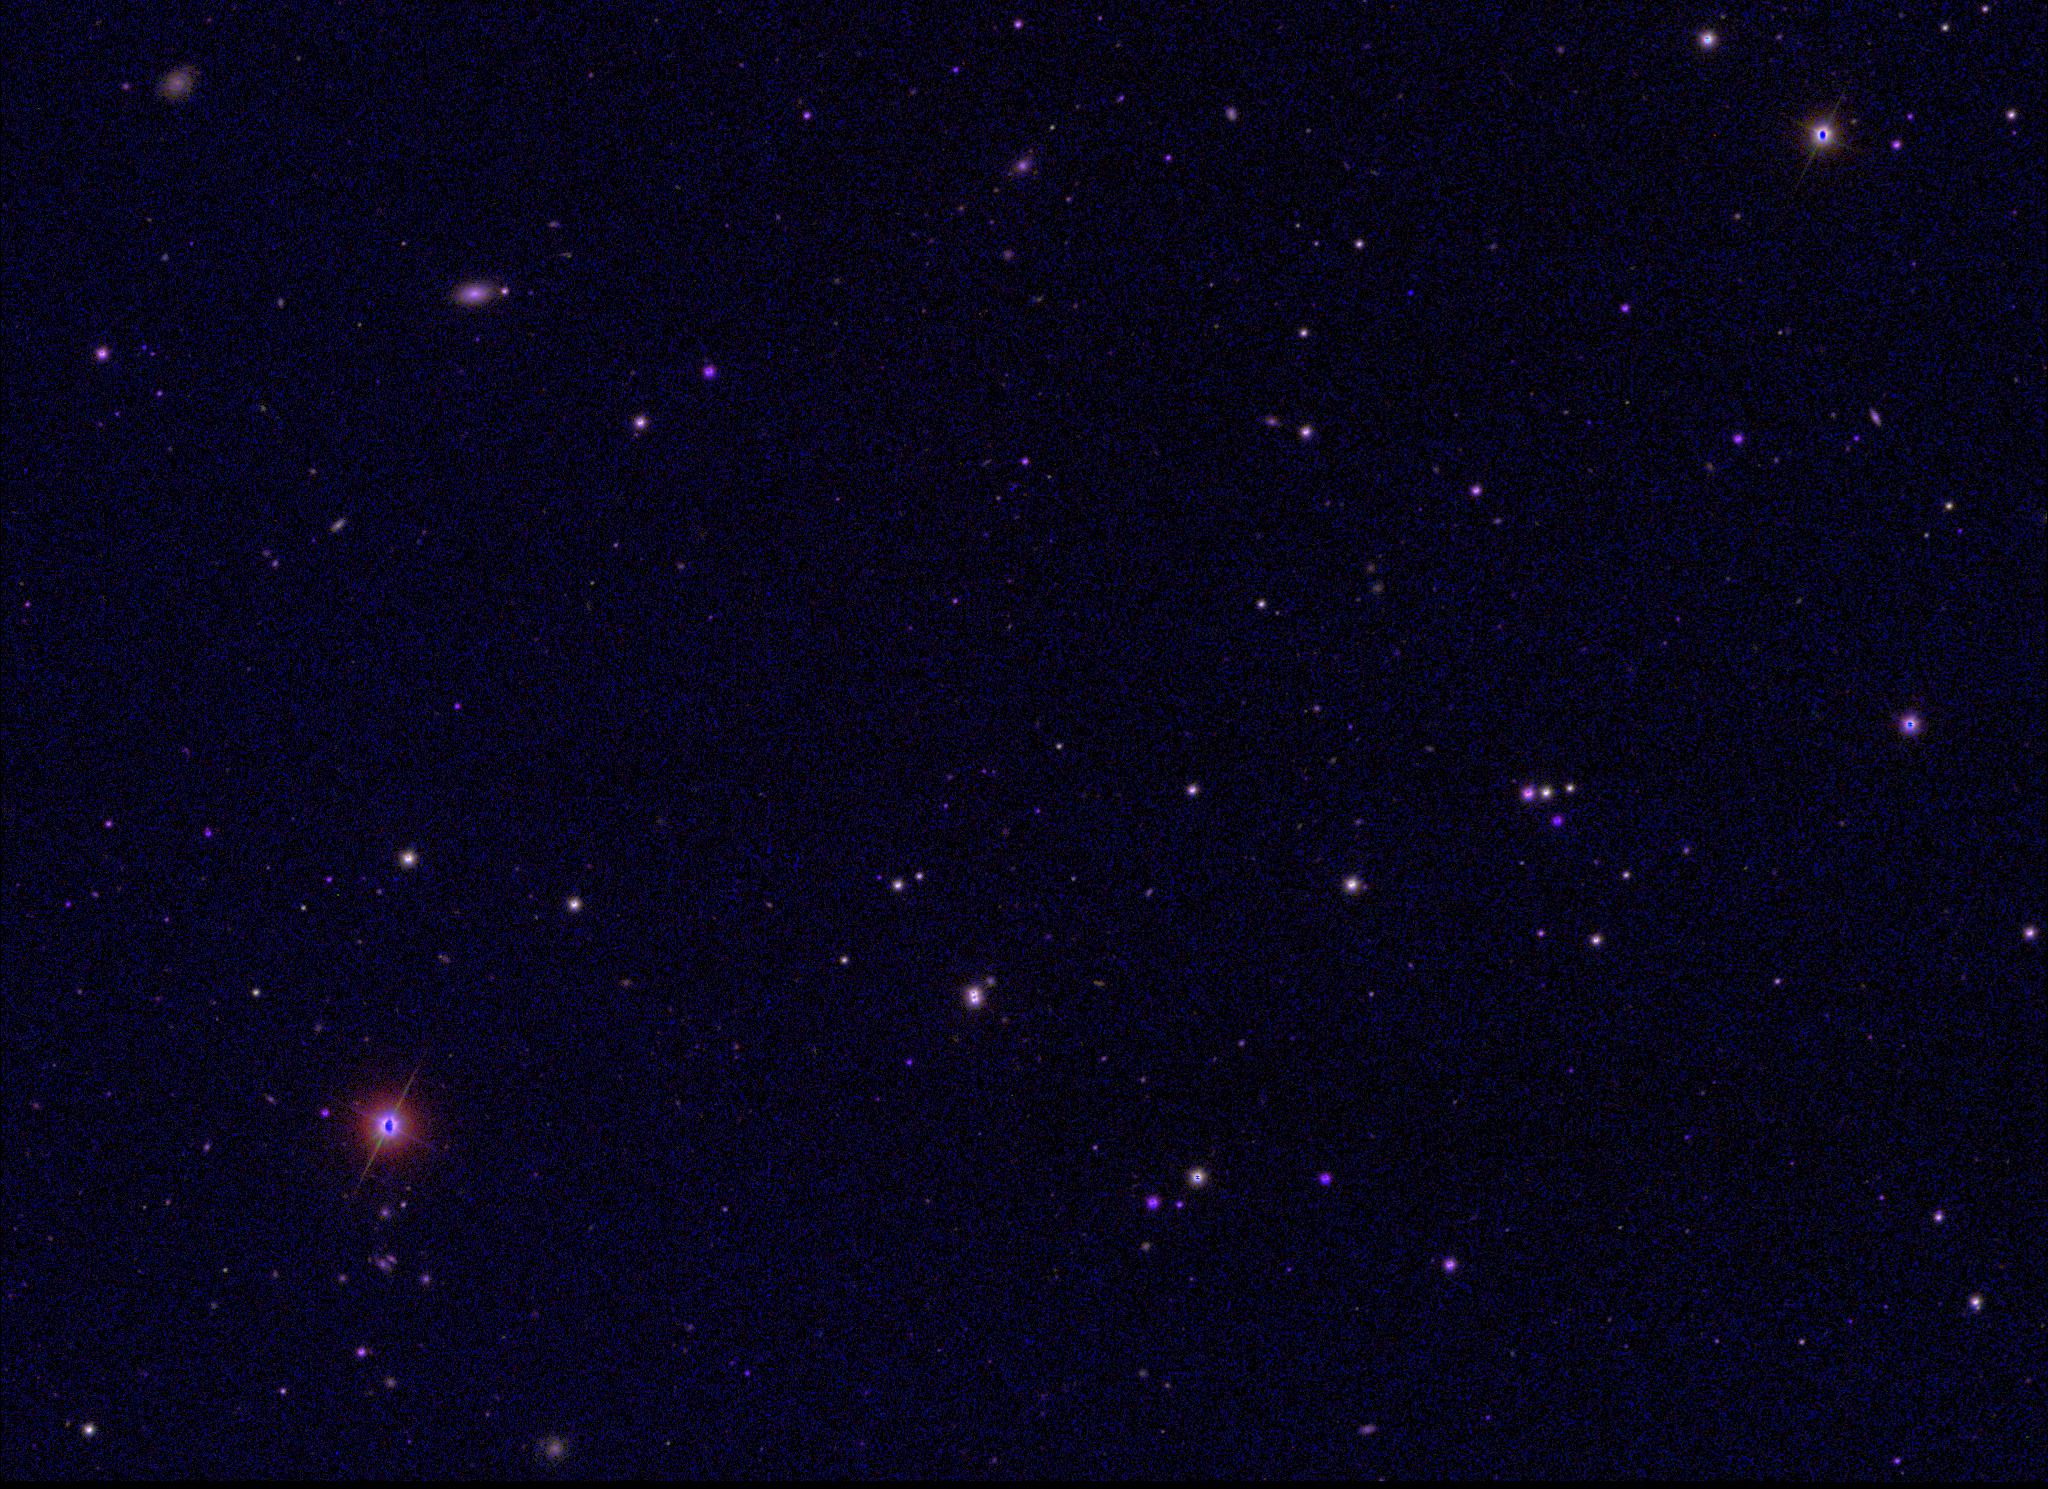L: (1406, 285, 1418, 299)
